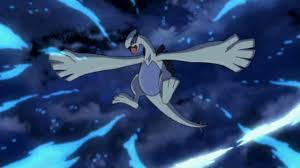lugia: (124, 29, 144, 57)
